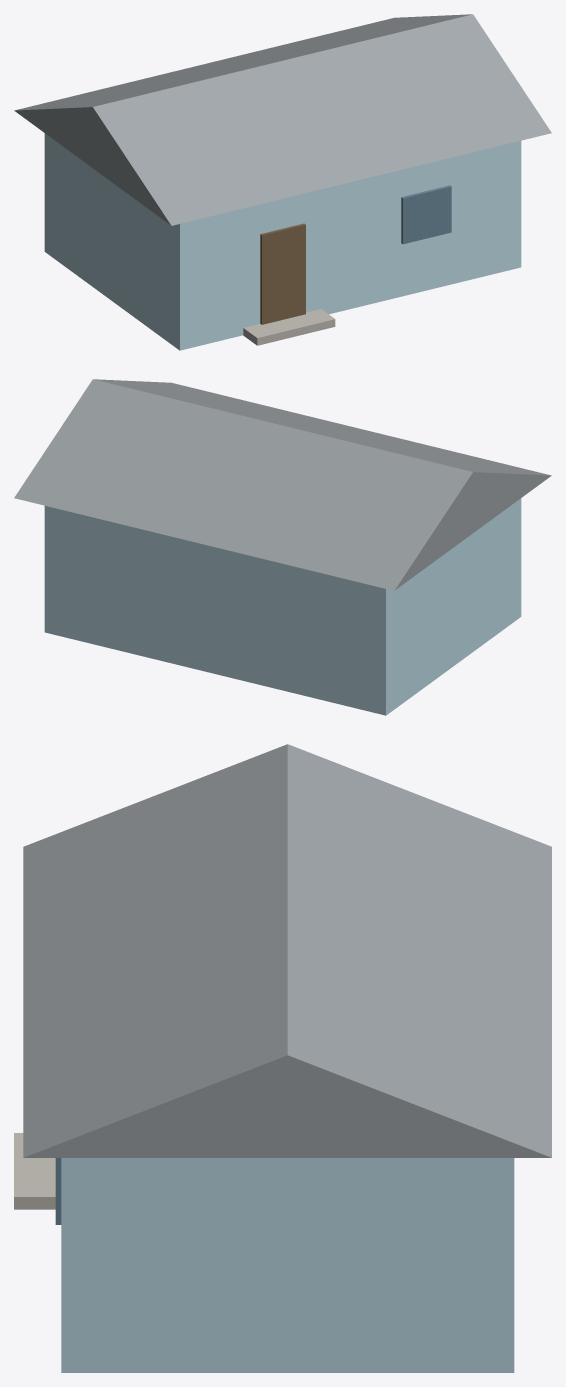
File: house-b.glb
The picture shows the model from 3 angles, top to bottom: view 1: azimuth 30°, elevation 25°; view 2: azimuth 150°, elevation 25°; view 3: azimuth 270°, elevation 25°; orthographic projection. The views are drawn at different scales.
Visible parts, largest first — view 1: r, b, d, w, s; view 2: r, b; view 3: r, b, s.
Boxes of the visible parts, left/top/right/bottom form: r: left=14, top=14, right=551, bottom=225; b: left=44, top=133, right=521, bottom=350; d: left=260, top=223, right=305, bottom=324; w: left=401, top=185, right=451, bottom=244; s: left=243, top=309, right=335, bottom=345; r: left=14, top=379, right=551, bottom=590; b: left=44, top=498, right=521, bottom=715; r: left=23, top=744, right=551, bottom=1157; b: left=61, top=1158, right=514, bottom=1372; s: left=14, top=1133, right=55, bottom=1209.
Bounding box in the file's own units: 7.8 × 3.91 × 5.7.
